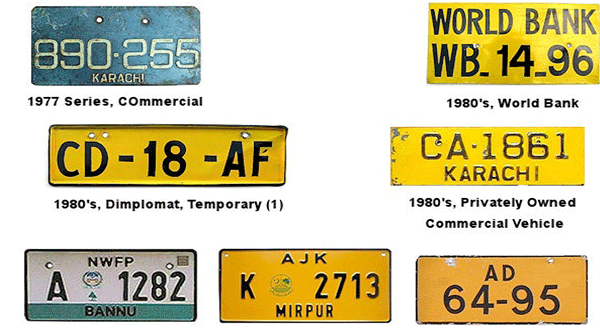Number Plate (Car): (48, 126, 285, 187), (31, 6, 198, 85), (220, 249, 392, 323), (413, 256, 590, 325), (24, 251, 195, 322), (390, 128, 586, 186), (429, 38, 600, 86)
